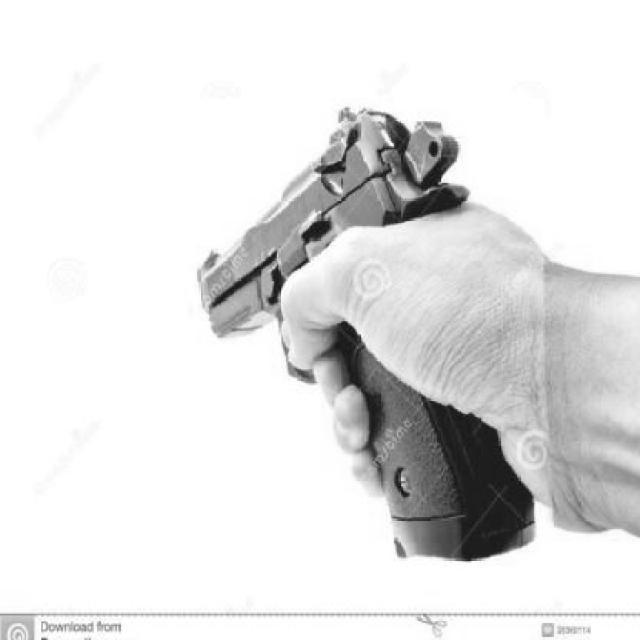weapon: (188, 93, 550, 595)
